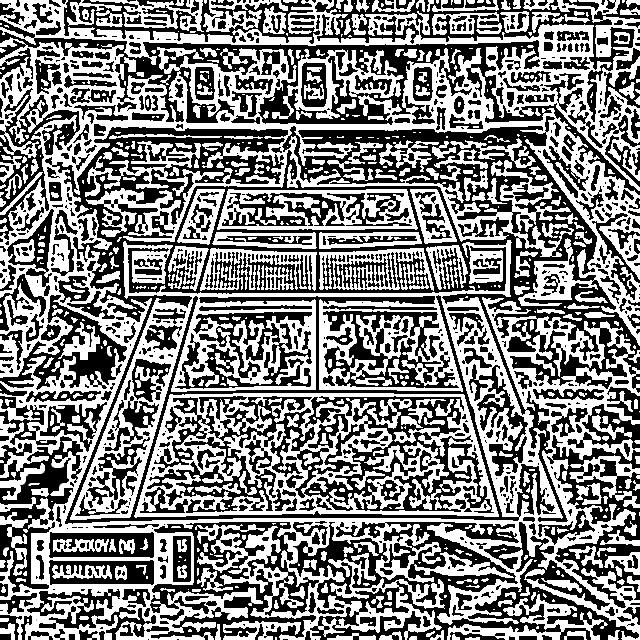left side: (66, 188, 227, 523), (408, 188, 566, 520)
player: (509, 408, 546, 574), (284, 126, 302, 189)
